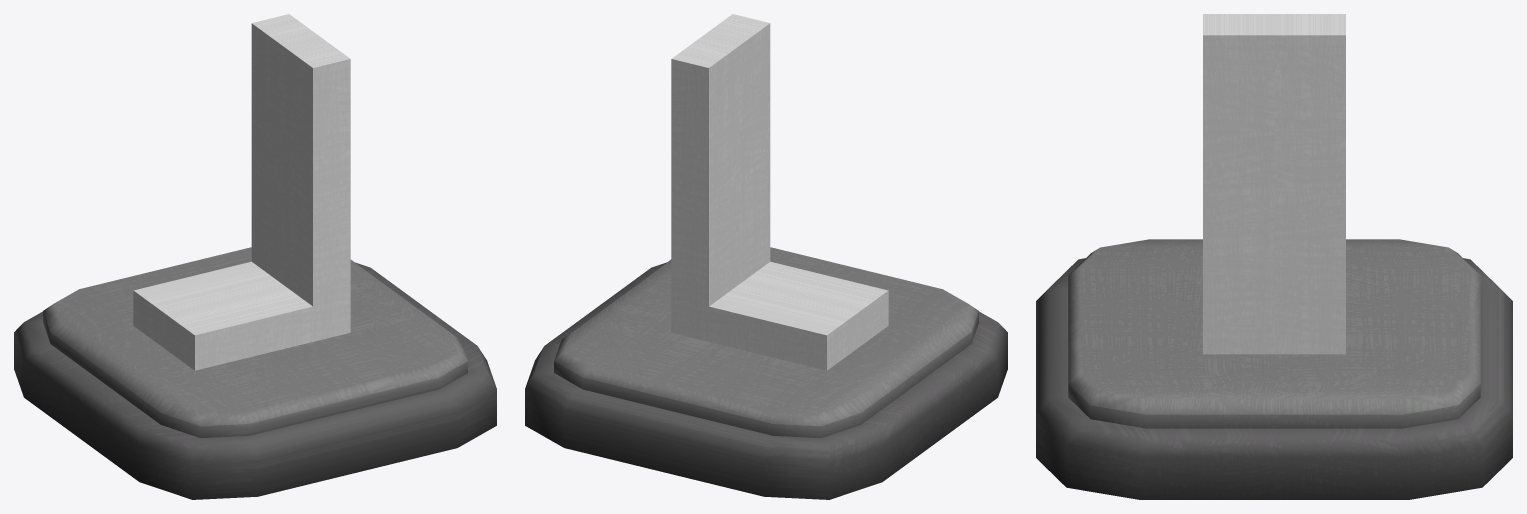
Rendered from Statue Letter L Hand.fbx.
The picture shows the model from 3 angles, left to right: view 1: azimuth 30°, elevation 25°; view 2: azimuth 150°, elevation 25°; view 3: azimuth 270°, elevation 25°; orthographic projection. The views are drawn at different scales.
Parts seen in each view (by area): view 1: StatueBase (1), Letter; view 2: StatueBase (1), Letter; view 3: StatueBase (1), Letter.
Boxes of the visible parts, x1,y1,x2,y2 form: StatueBase (1): (14, 247, 496, 499); Letter: (133, 14, 350, 370); StatueBase (1): (525, 247, 1007, 499); Letter: (671, 14, 888, 370); StatueBase (1): (1036, 239, 1512, 499); Letter: (1203, 14, 1345, 354).
Size of the model in its own units: 0.9118 by 0.8657 by 0.9299.
